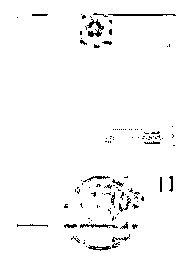Round chop: (62, 176, 141, 252)
